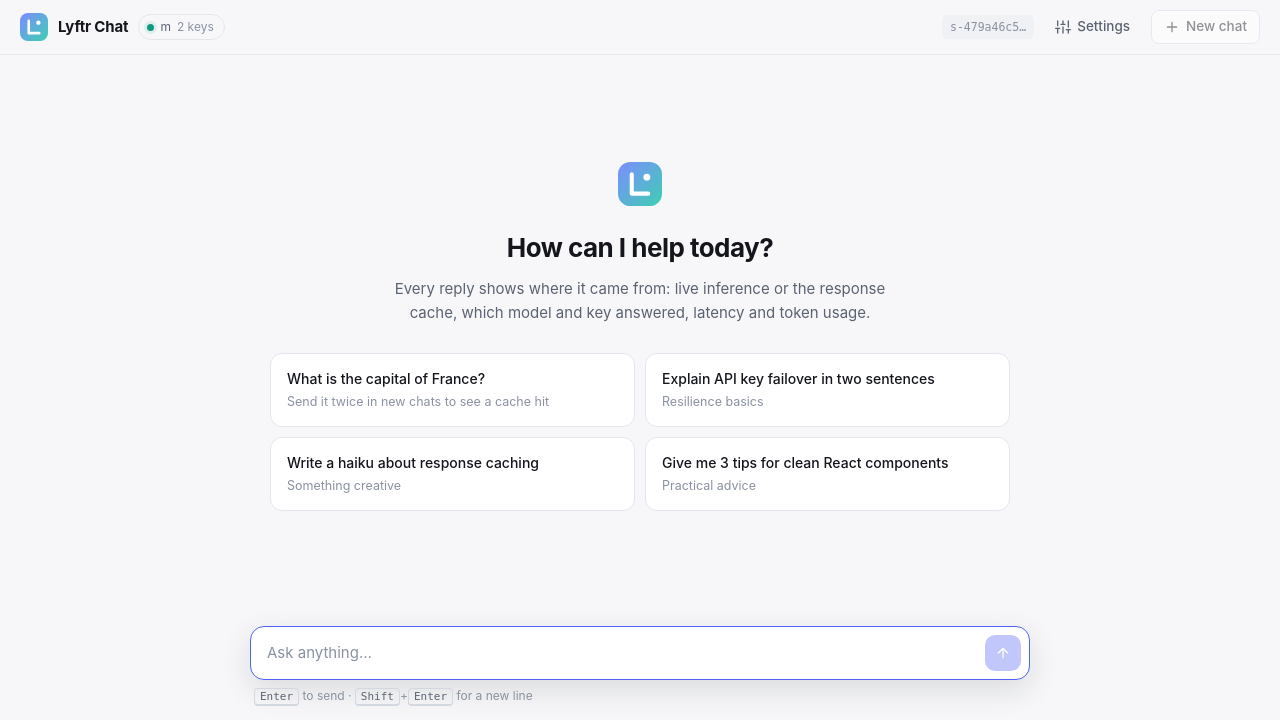
it: App › sends on Enter, clears the input and renders every metadata test id
Type "What is the capital of France?" into the text box with test id "chat-input" at (622,654), box [267,636,977,671]
Then press Enter
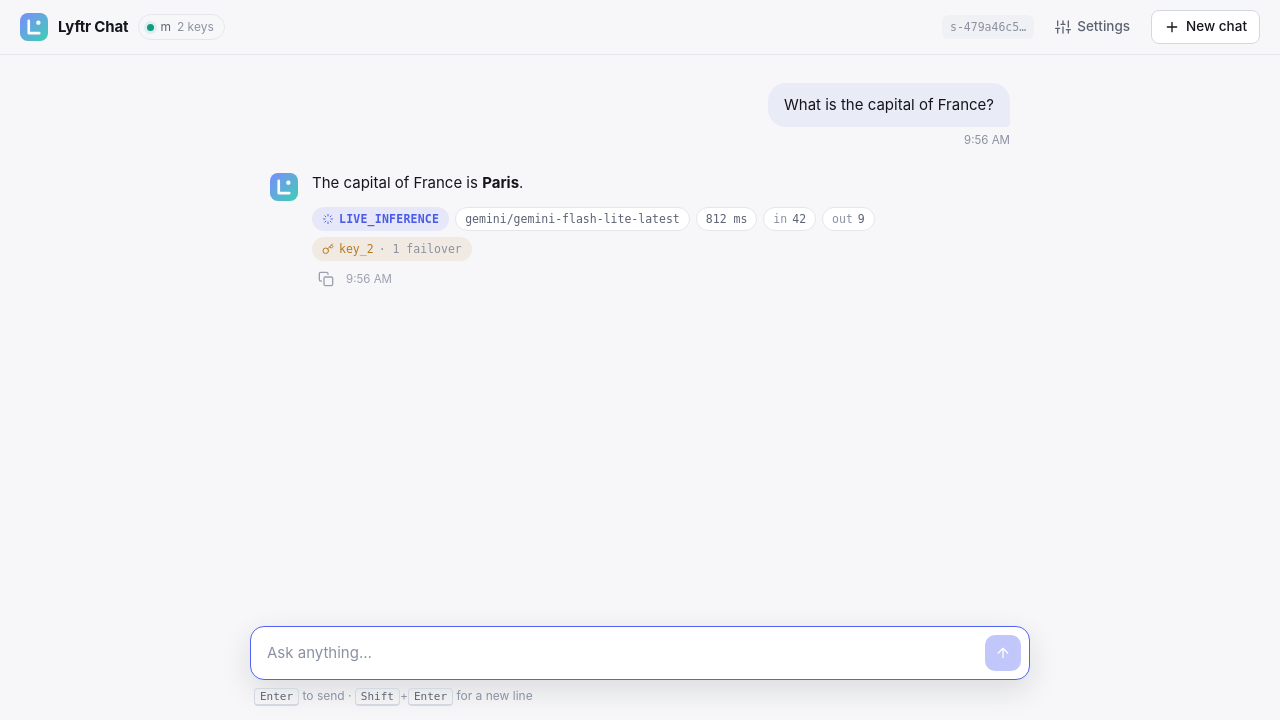
Expected: the text "Paris" is shown, [482,173,519,192]
Expected: the text with test id "meta-source" reads "LIVE_INFERENCE", [339,212,439,226]
Expected: the text with test id "meta-model" reads "gemini/gemini-flash-lite-latest", [465,212,680,226]
